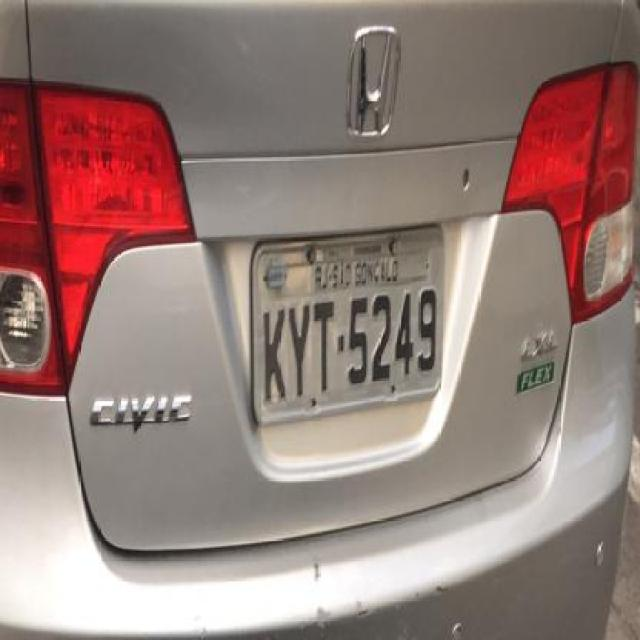old_plate: (244, 218, 453, 433)
